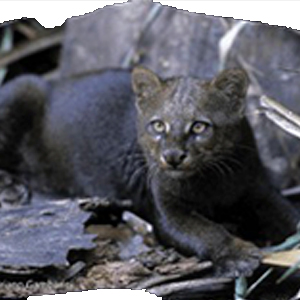Jaguarundi: (10, 61, 292, 275)
